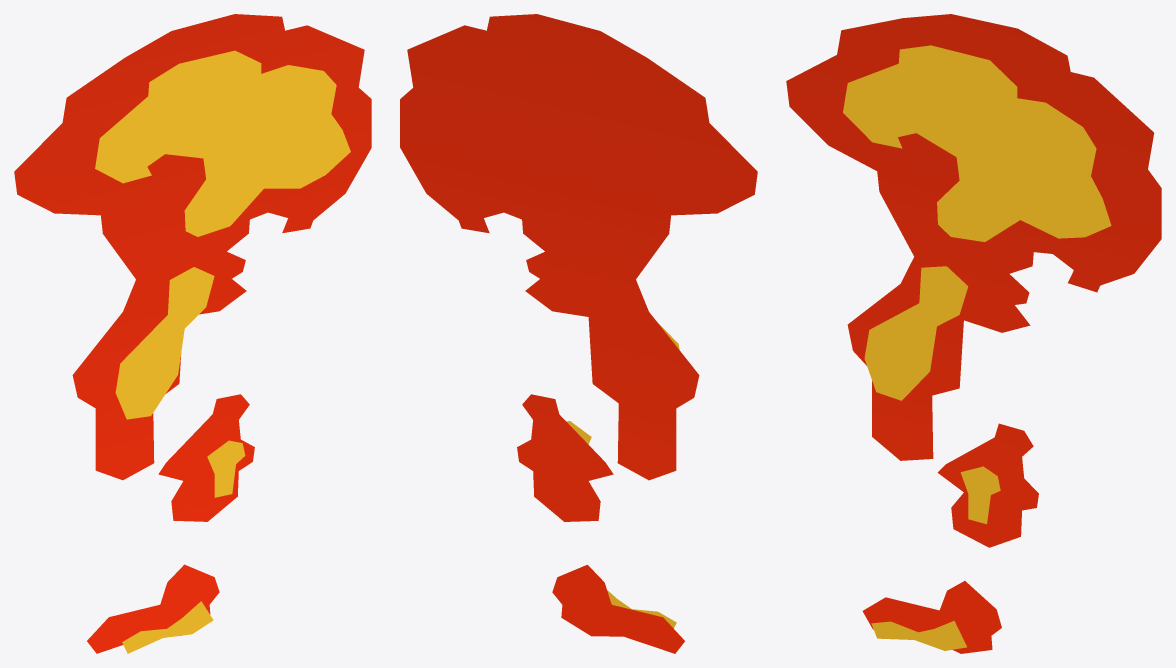
File: fogonazo-006.gltf
The picture shows the model from 3 angles, left to right: view 1: azimuth 30°, elevation 25°; view 2: azimuth 150°, elevation 25°; view 3: azimuth 330°, elevation 25°; orthographic projection. The views are drawn at different scales.
Visible parts, largest first — view 1: Caldero_Fogonazo-f.006; view 2: Caldero_Fogonazo-f.006; view 3: Caldero_Fogonazo-f.006.
Part boxes in pixels (bbox=[...]): Caldero_Fogonazo-f.006: bbox=[14, 14, 371, 653]; Caldero_Fogonazo-f.006: bbox=[400, 14, 757, 653]; Caldero_Fogonazo-f.006: bbox=[786, 14, 1161, 653].
Size of the model in its own units: 0.4599 by 0.7482 by 0.03.
Materials: 1 (1 with a texture image).
